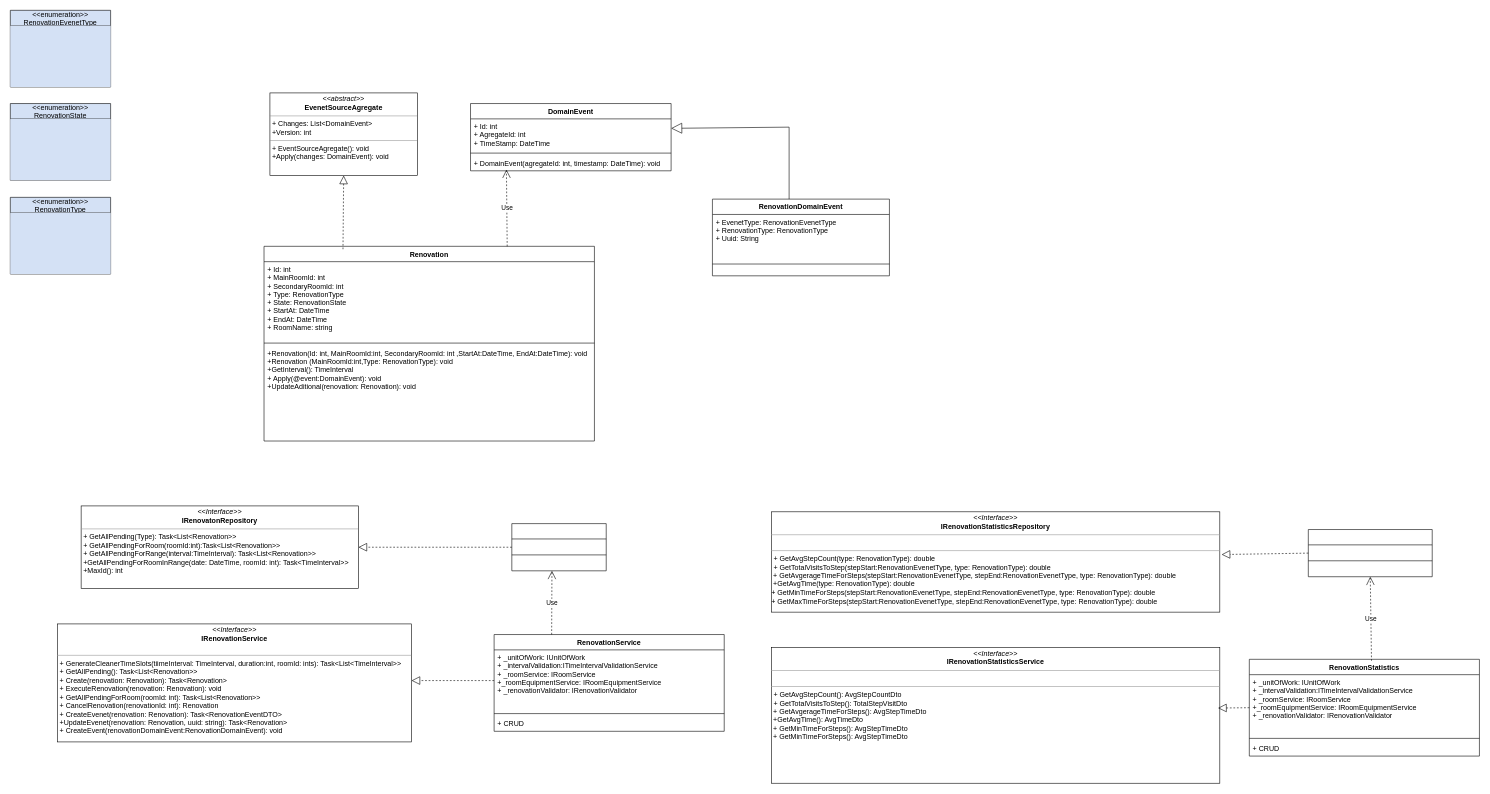
This 1490x794 diagram has some shape labels left out. Here are the shapes that lost their labels. From the top down, the centre of each, then its label:
[60,56]: STARTED ADDED_BASIC_INFO TIME_CHOSEN ADDED_ADDITION_INFO FINISHED CANCELED
[60,149]: FINISHED PENDING CANCELED
[60,243]: MERGE SPLIT
[558,547]: RenovationRepository
[1370,553]: RenovationStatisticsRepository
